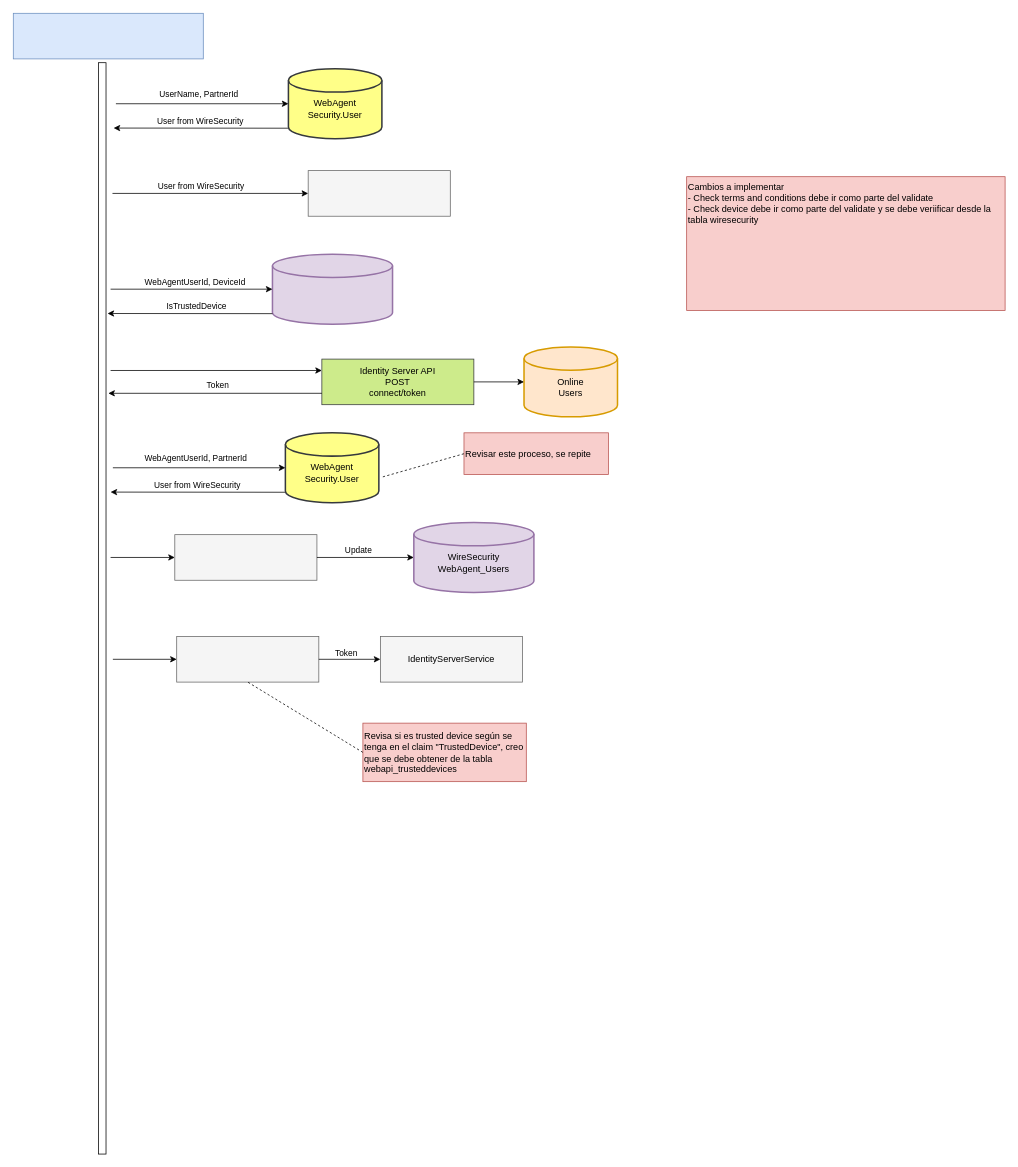
The diagram is 1018 pixels wide and 1167 high, and some of its shapes have lost their labels. The centre of each missing label's shape, as x and y in pixels:
Check Device: point 247,659
Check Terms And Conditions: point 245,557
Handler LoginQueryHandler: point 108,36
Verify if is Inactive: point 378,193
WireSecurity WebApi_TrustedDevices: point 332,289
